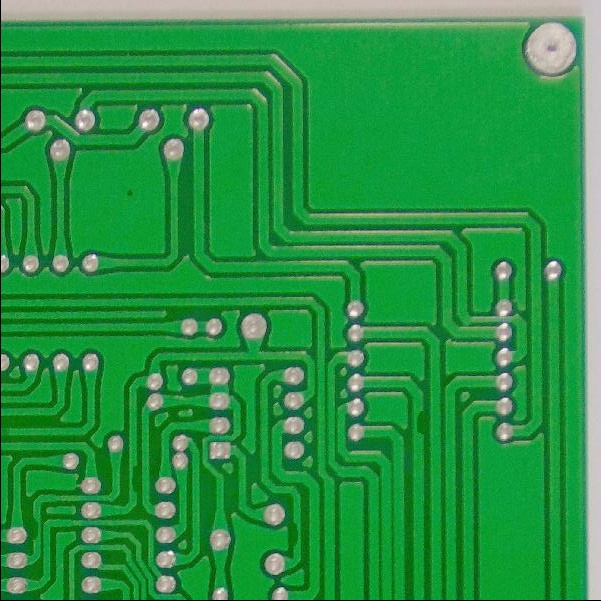mouse_bite: (408, 405, 426, 442), (124, 459, 140, 498), (287, 516, 303, 552), (28, 514, 42, 546)
